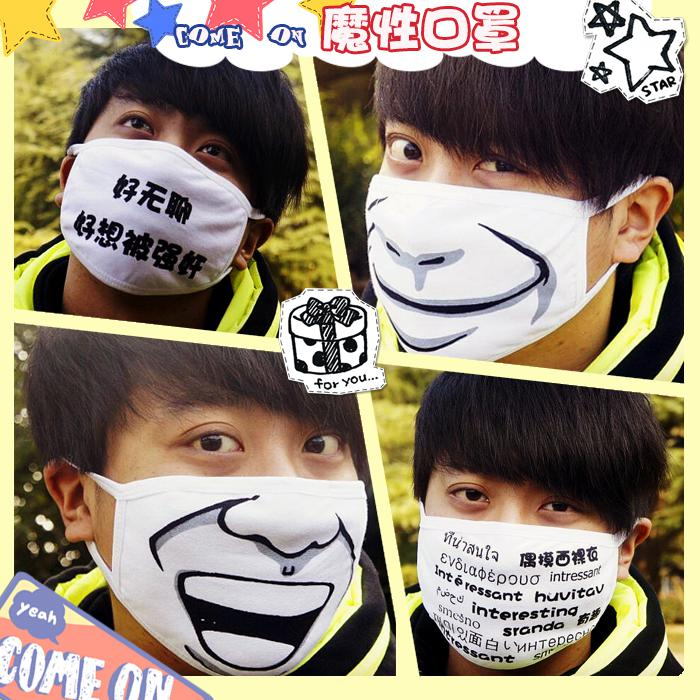OK: (91, 369, 388, 666), (358, 93, 619, 354), (424, 430, 647, 653), (71, 93, 266, 288)
